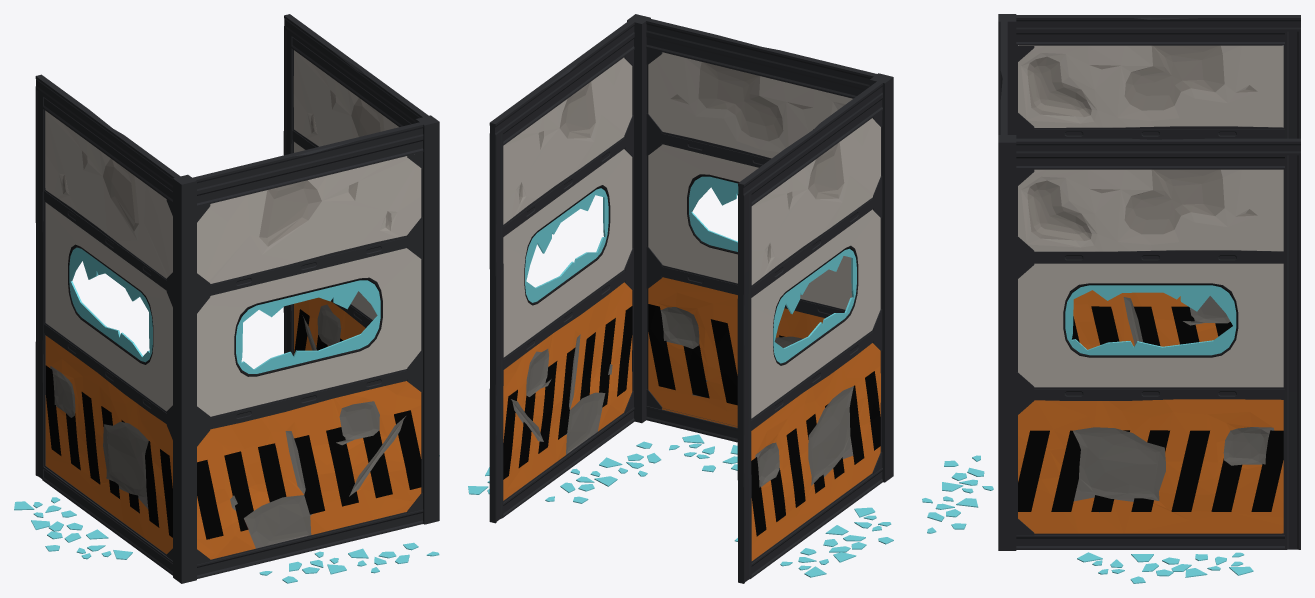
The model's file is SM_Wall_Angle_Broken_02.gltf.
3 views of the same model, side by side, from view 1: azimuth 30°, elevation 25°; view 2: azimuth 150°, elevation 25°; view 3: azimuth 270°, elevation 25° (orthographic). The views are drawn at different scales.
Parts seen in each view (by area): view 1: SM_Wall_Angle_Broken_02; view 2: SM_Wall_Angle_Broken_02; view 3: SM_Wall_Angle_Broken_02.
Part boxes in pixels (box(x1,y1,x2,y2)): SM_Wall_Angle_Broken_02: box(14, 14, 439, 583); SM_Wall_Angle_Broken_02: box(468, 14, 893, 583); SM_Wall_Angle_Broken_02: box(922, 14, 1300, 583).
Bounding box in the file's own units: 3.07 × 3 × 2.52.
